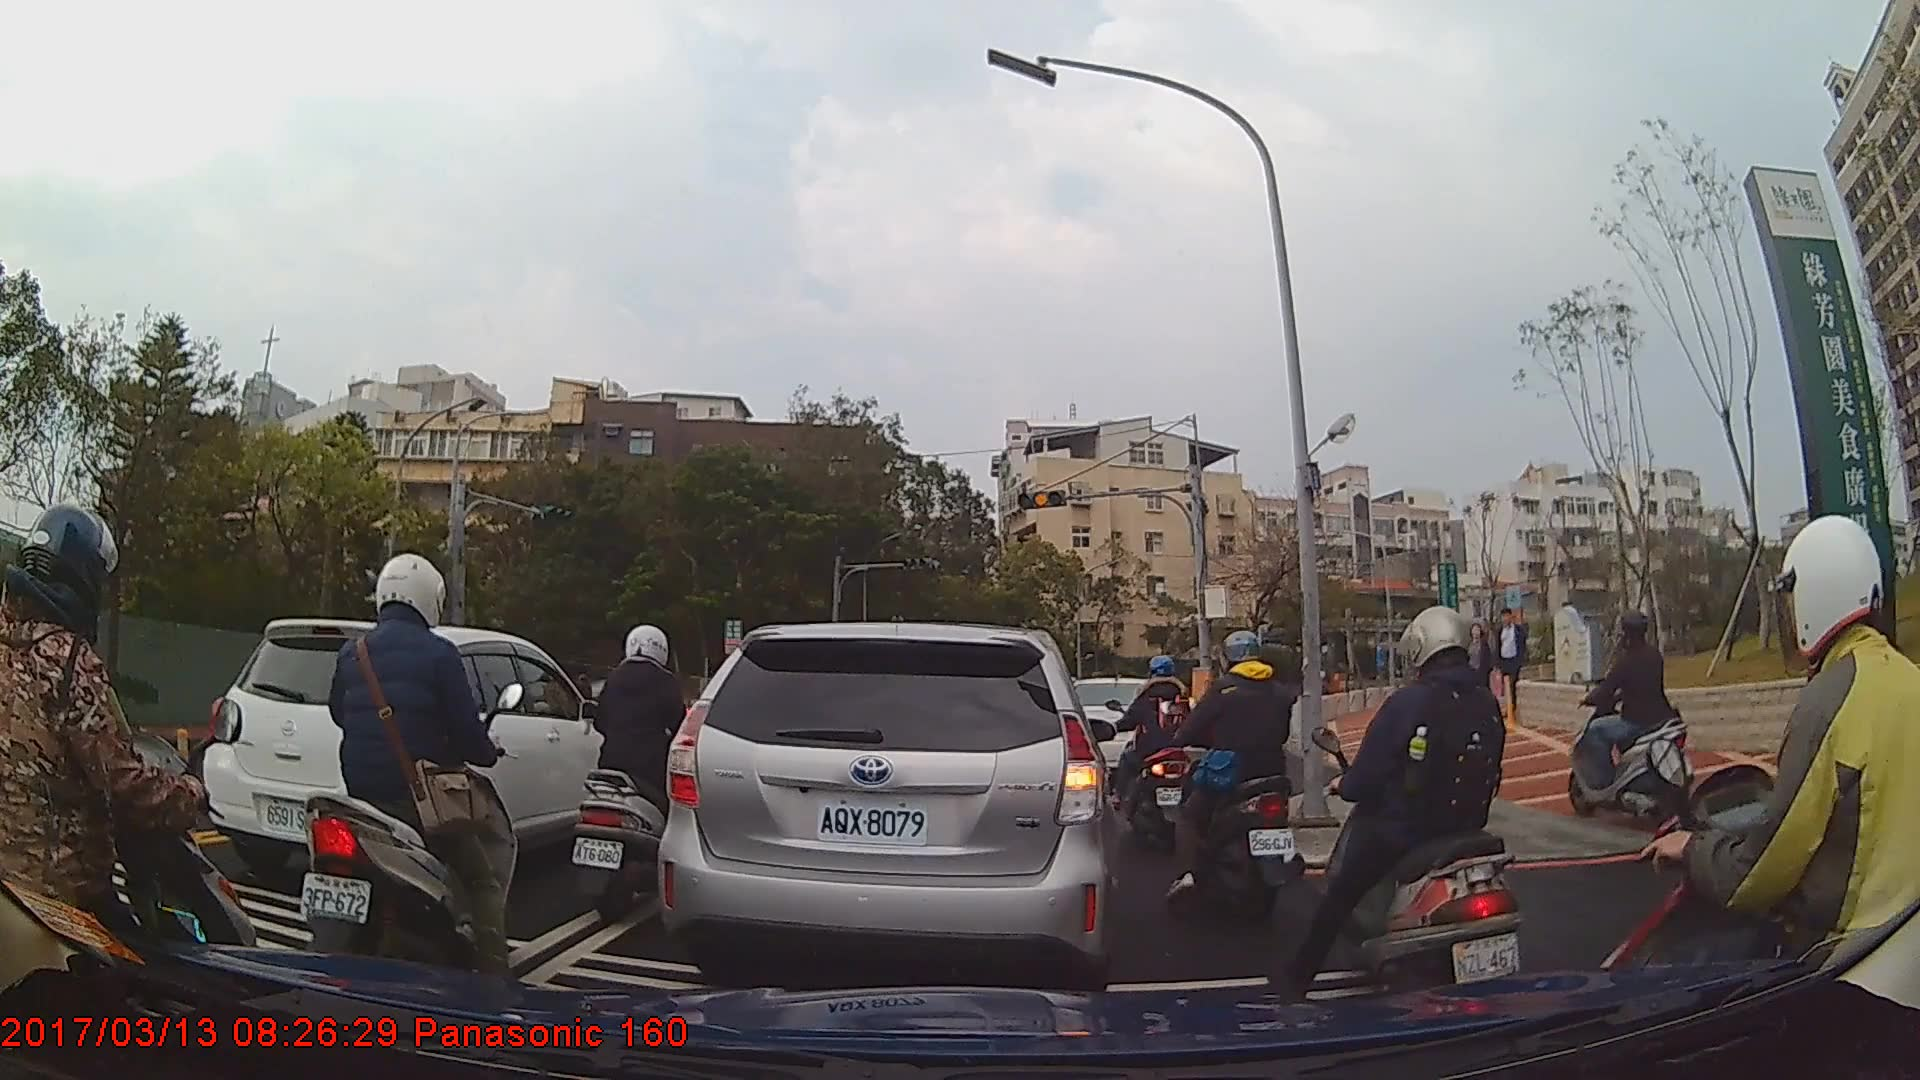pedestrian: (1491, 609, 1532, 719), (1463, 624, 1497, 718)
rider: (1583, 514, 1920, 1080), (1, 499, 262, 1056), (299, 545, 526, 1000), (1304, 606, 1533, 1020), (569, 626, 723, 928), (1166, 631, 1305, 920), (1565, 614, 1690, 835), (1106, 652, 1198, 855)
vehicle: (654, 622, 1115, 988), (203, 617, 629, 888), (1058, 675, 1164, 783)
